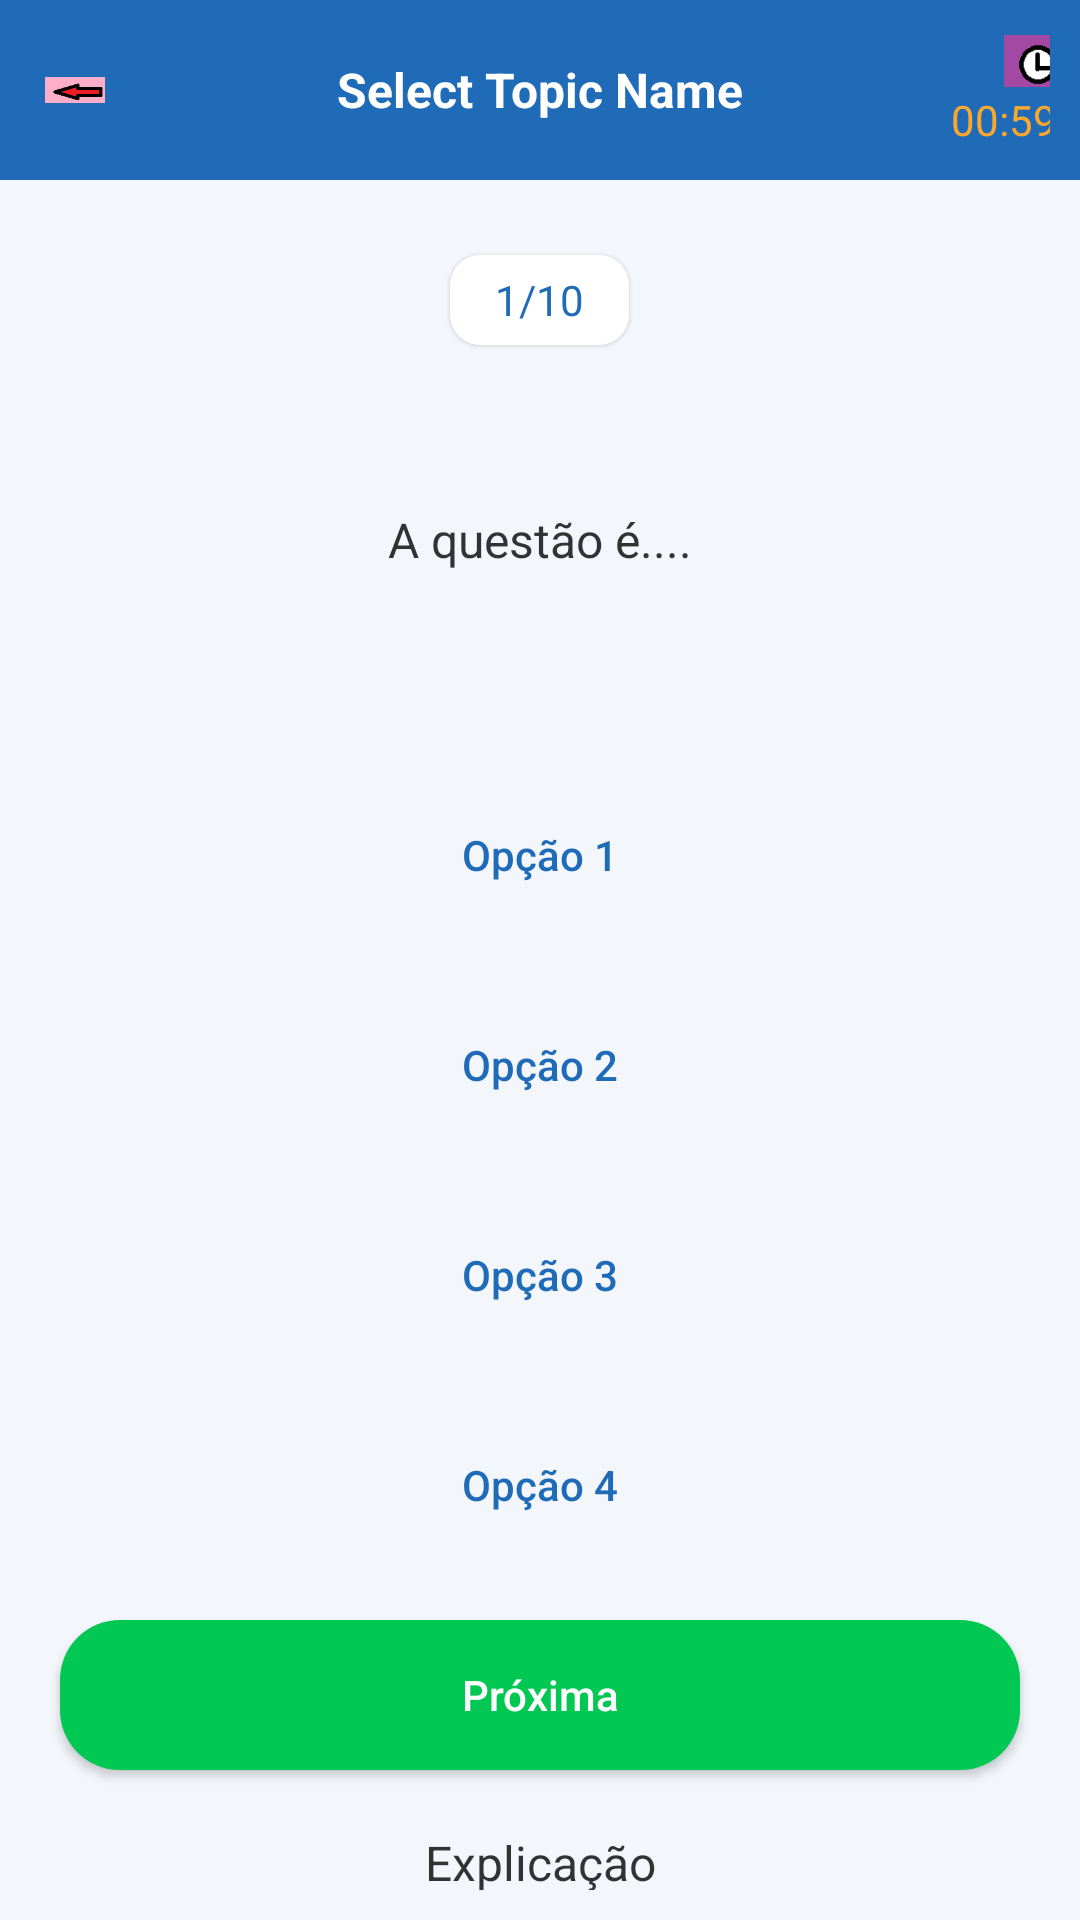

Icon click points for this 1080px×1920px phone screenshot, format [x,y]:
back: [75,90]
